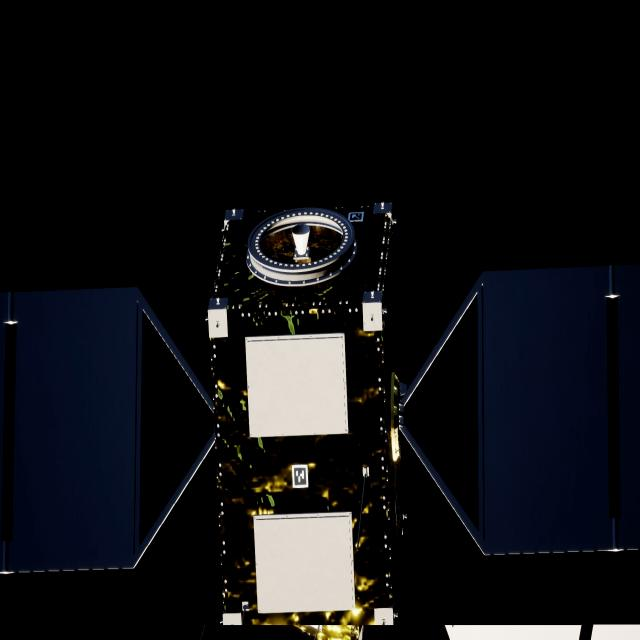medium_debris: (0, 203, 640, 634)
